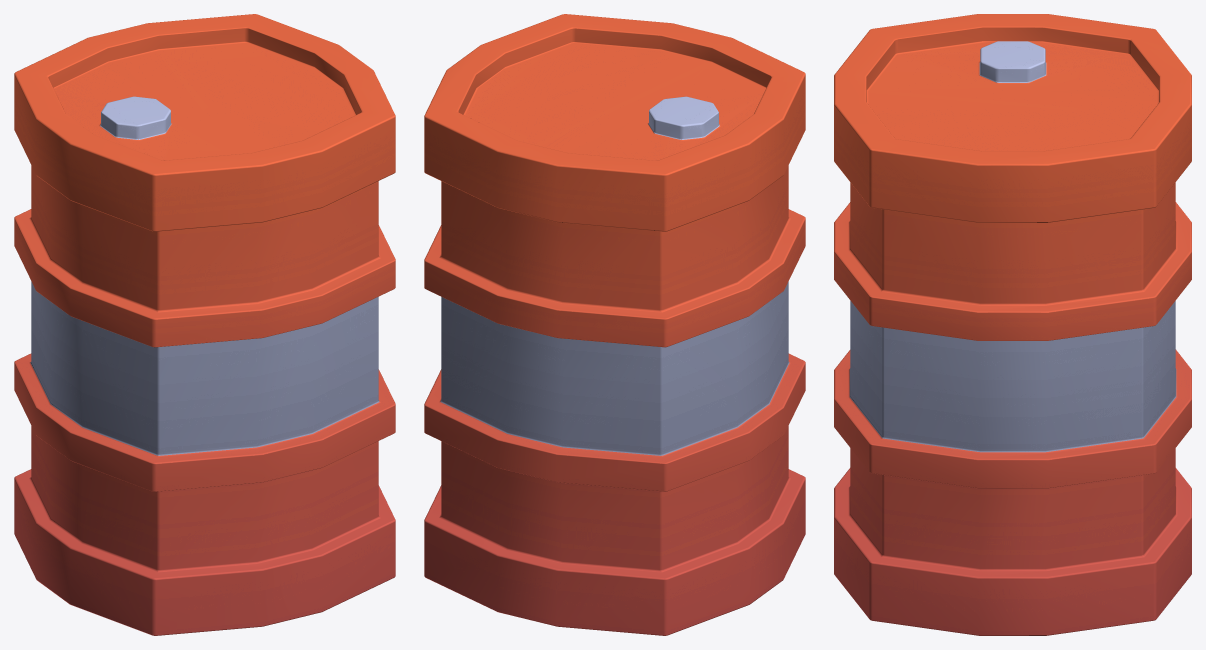
The model's file is barrel.glb.
3 views of the same model, side by side, from view 1: azimuth 30°, elevation 25°; view 2: azimuth 150°, elevation 25°; view 3: azimuth 270°, elevation 25° (orthographic). The views are drawn at different scales.
Parts seen in each view (by area): view 1: barrel; view 2: barrel; view 3: barrel.
Boxes of the visible parts, box(x1,y1,x2,y2) form: barrel: box(14, 14, 395, 635); barrel: box(424, 14, 805, 635); barrel: box(834, 14, 1191, 635).
Size of the model in its own units: 0.2365 by 0.344 by 0.2365.
1 material, 1 textured.
